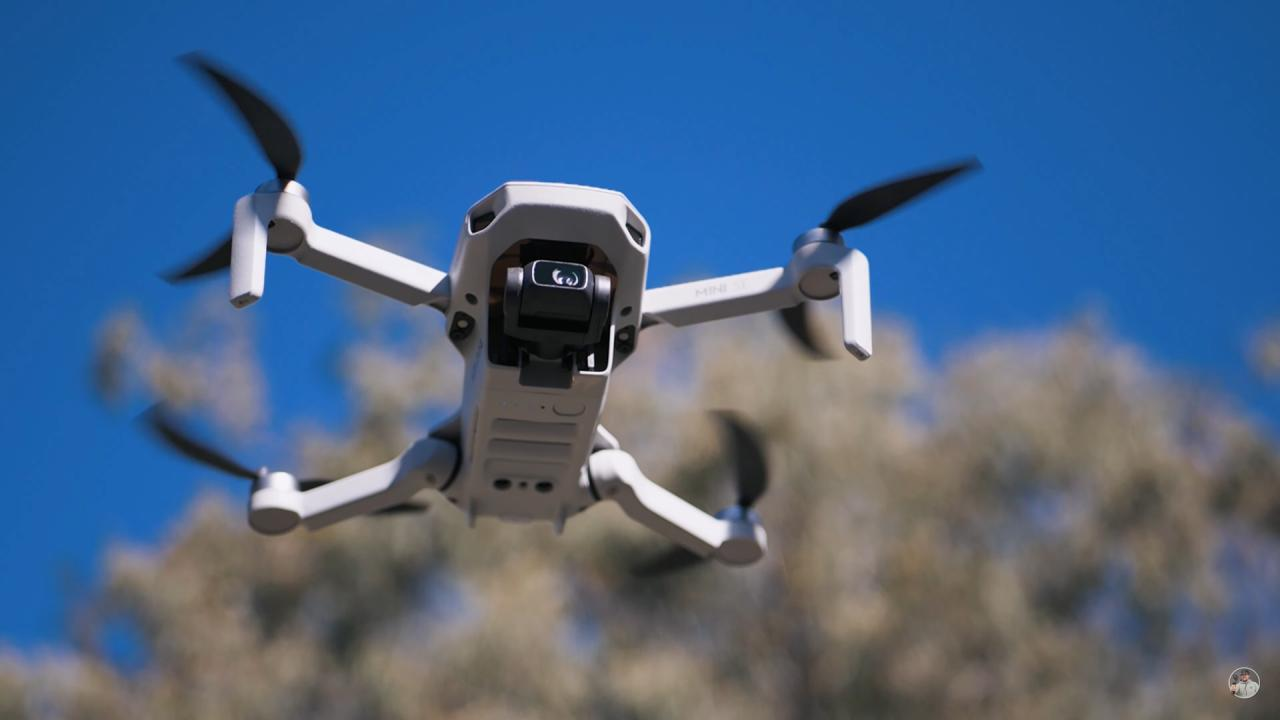Drone: (112, 40, 997, 591)
